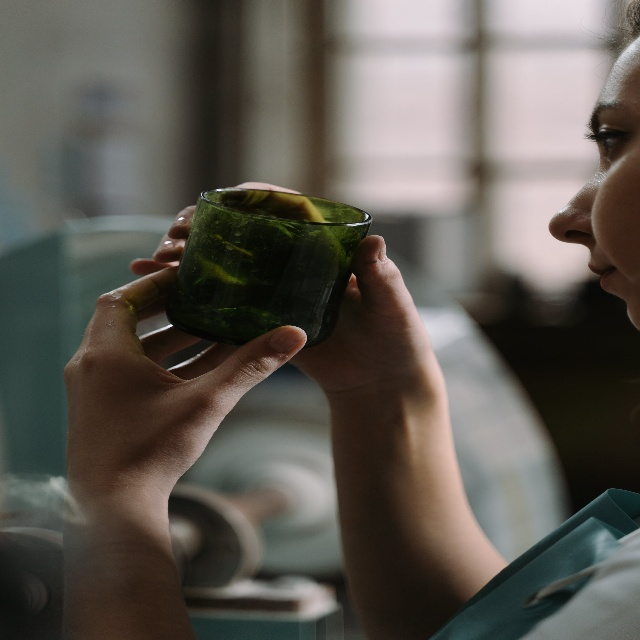Sin_guantes: (129, 179, 433, 397), (62, 266, 308, 499)
